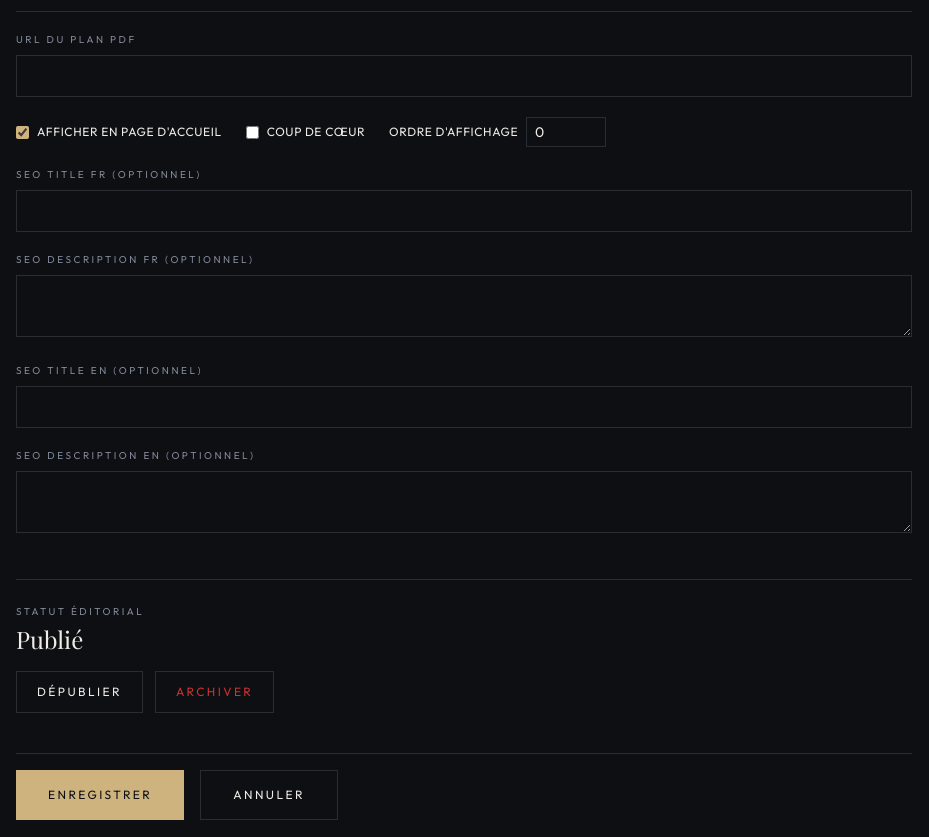
Test: AdminBienEdit › disables compatible publication actions while a save is running
(page scrolled)
Click the button "Enregistrer": (100, 795) [16, 770, 184, 820]
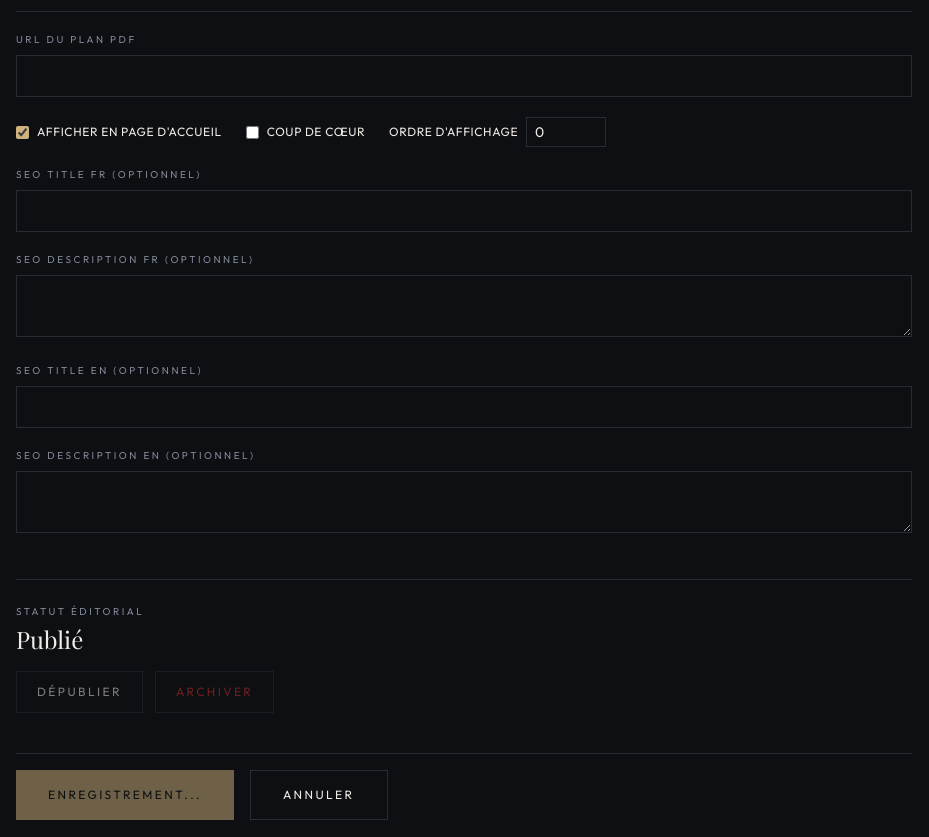
Expected: the button "Dépublier" is disabled, [16, 671, 143, 713]
Expected: the button "Archiver" is disabled, [155, 671, 274, 713]
